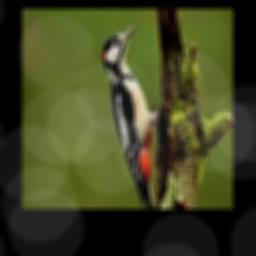Woodpecker: (103, 23, 172, 209)
